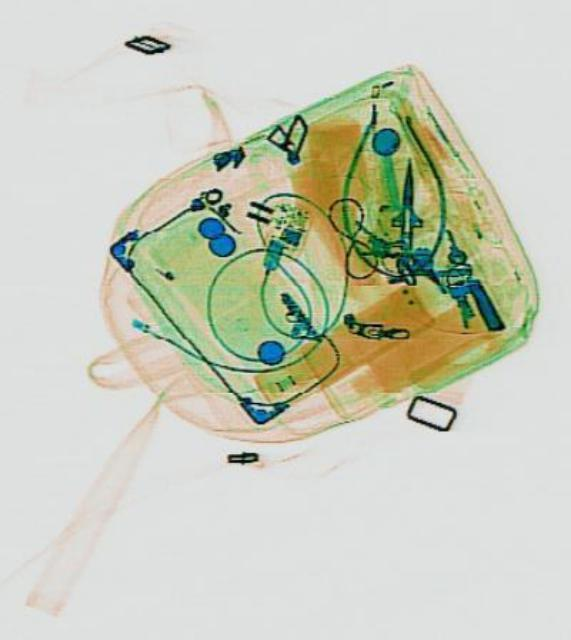Knife: (387, 156, 424, 248)
